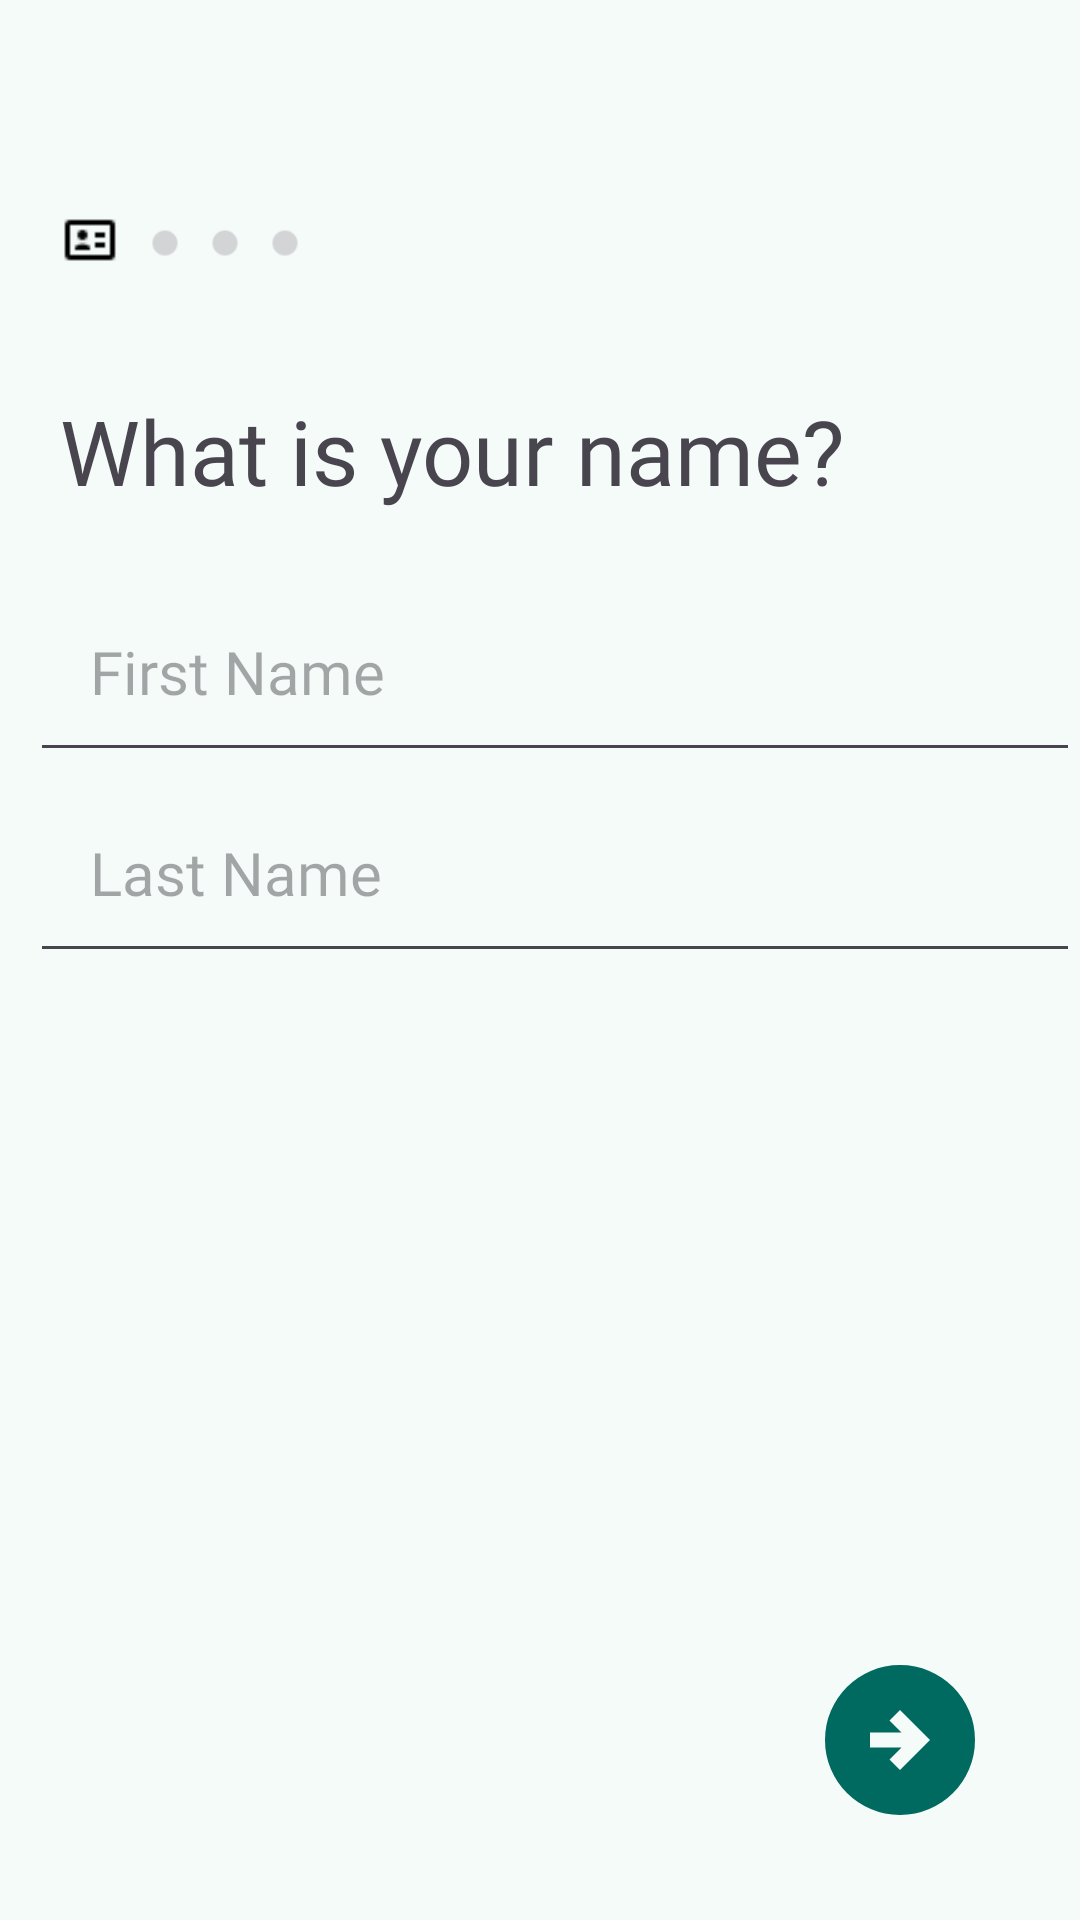

Icon click points for this 1080*1920 phone screenshot, format (x,y):
card: (90,240)
next: (900,1740)
